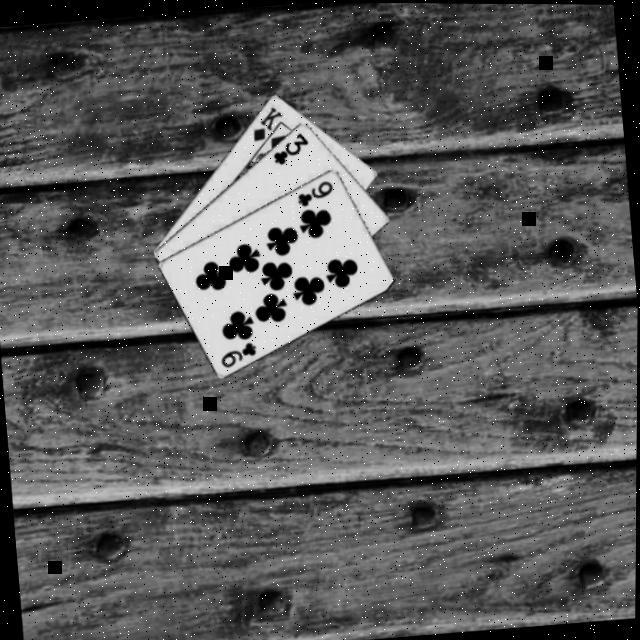3C: (269, 127, 313, 166)
9C: (294, 175, 337, 208), (217, 337, 260, 368)
KD: (249, 99, 288, 142)
